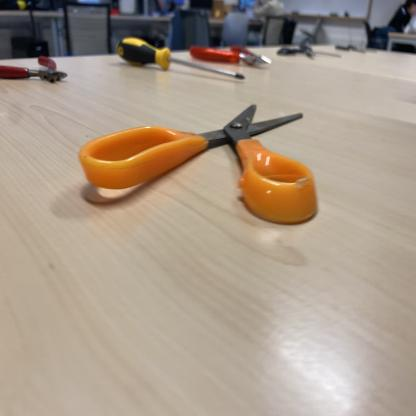scissors: (78, 103, 320, 232), (275, 42, 344, 62)
